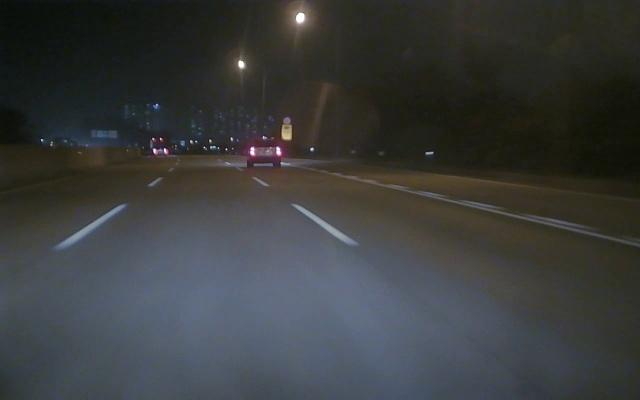lane: (326, 172, 637, 249), (41, 180, 159, 257), (256, 179, 362, 246)
